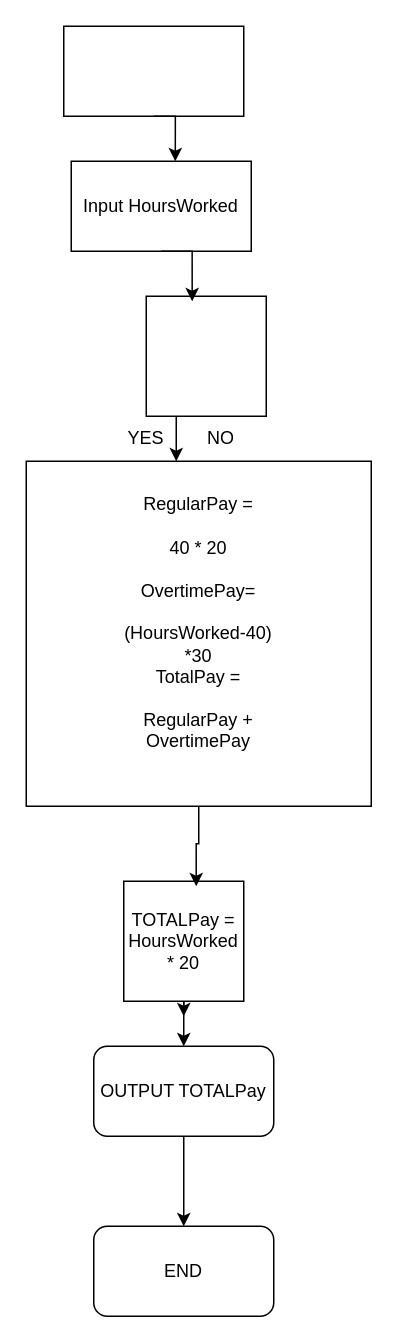
This 398x1343 diagram has some shape labels left out. The shapes that lost their labels are listed below. From the top down, each one's centre as x and y in pixels, then its label:
At (153,70): "START".
At (205,355): "HoursWorked > 40 ?".
